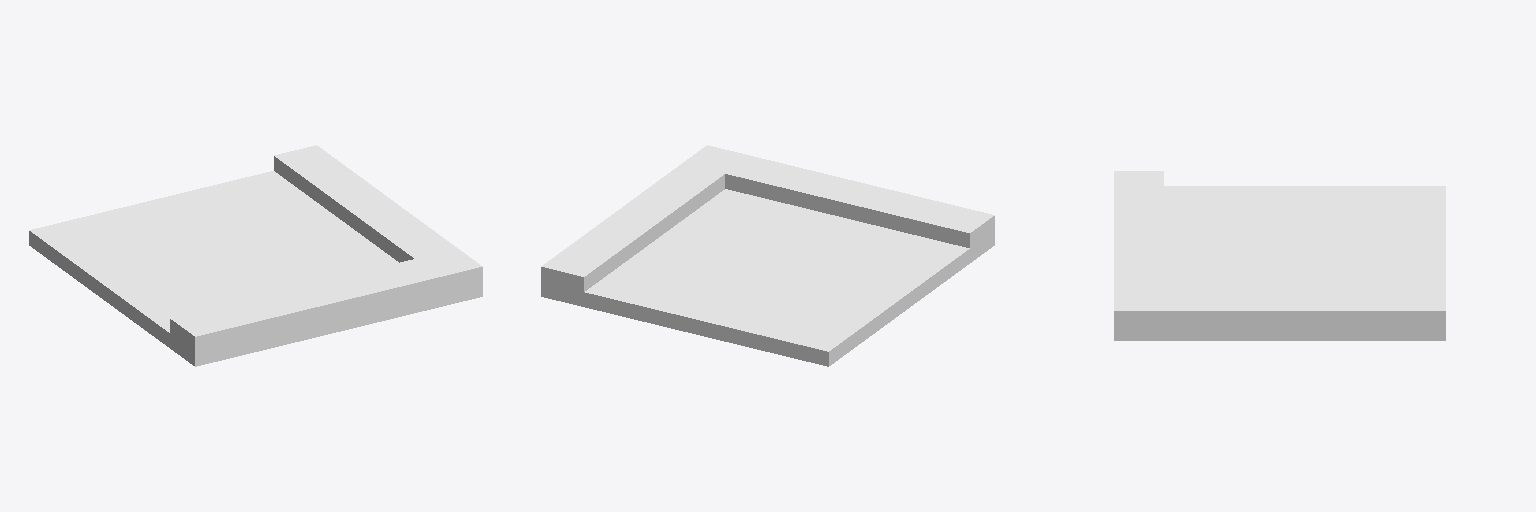
The model's file is house-4-roof_flat_outer_corner.obj.
3 renders of one model, left to right at view 1: azimuth 30°, elevation 25°; view 2: azimuth 150°, elevation 25°; view 3: azimuth 270°, elevation 25°, orthographic.
Parts seen in each view (by area): view 1: roof_flat_outer_corner; view 2: roof_flat_outer_corner; view 3: roof_flat_outer_corner.
Boxes of the visible parts, x1,y1,x2,y2 form: roof_flat_outer_corner: [29, 145, 482, 366]; roof_flat_outer_corner: [541, 145, 994, 366]; roof_flat_outer_corner: [1114, 171, 1445, 340].
Size of the model in its own units: 2 by 0.2 by 2.